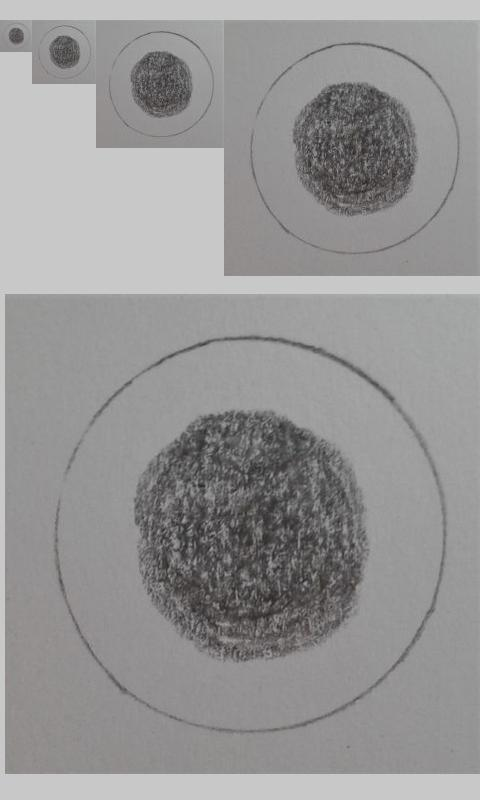radio_button: (48, 333, 451, 736), (246, 37, 463, 258), (108, 30, 216, 138), (37, 24, 92, 80), (2, 22, 31, 50)
